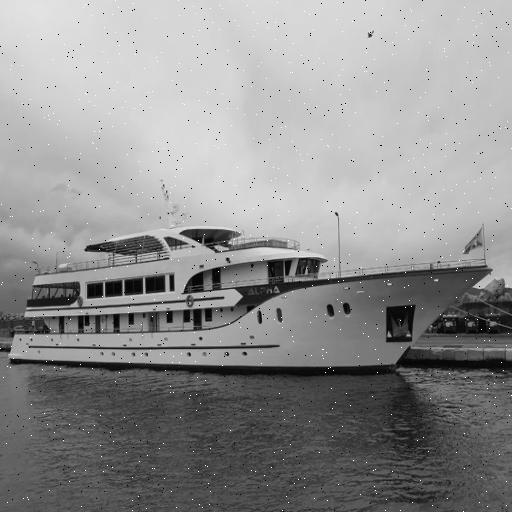cruises: (7, 217, 498, 387)
